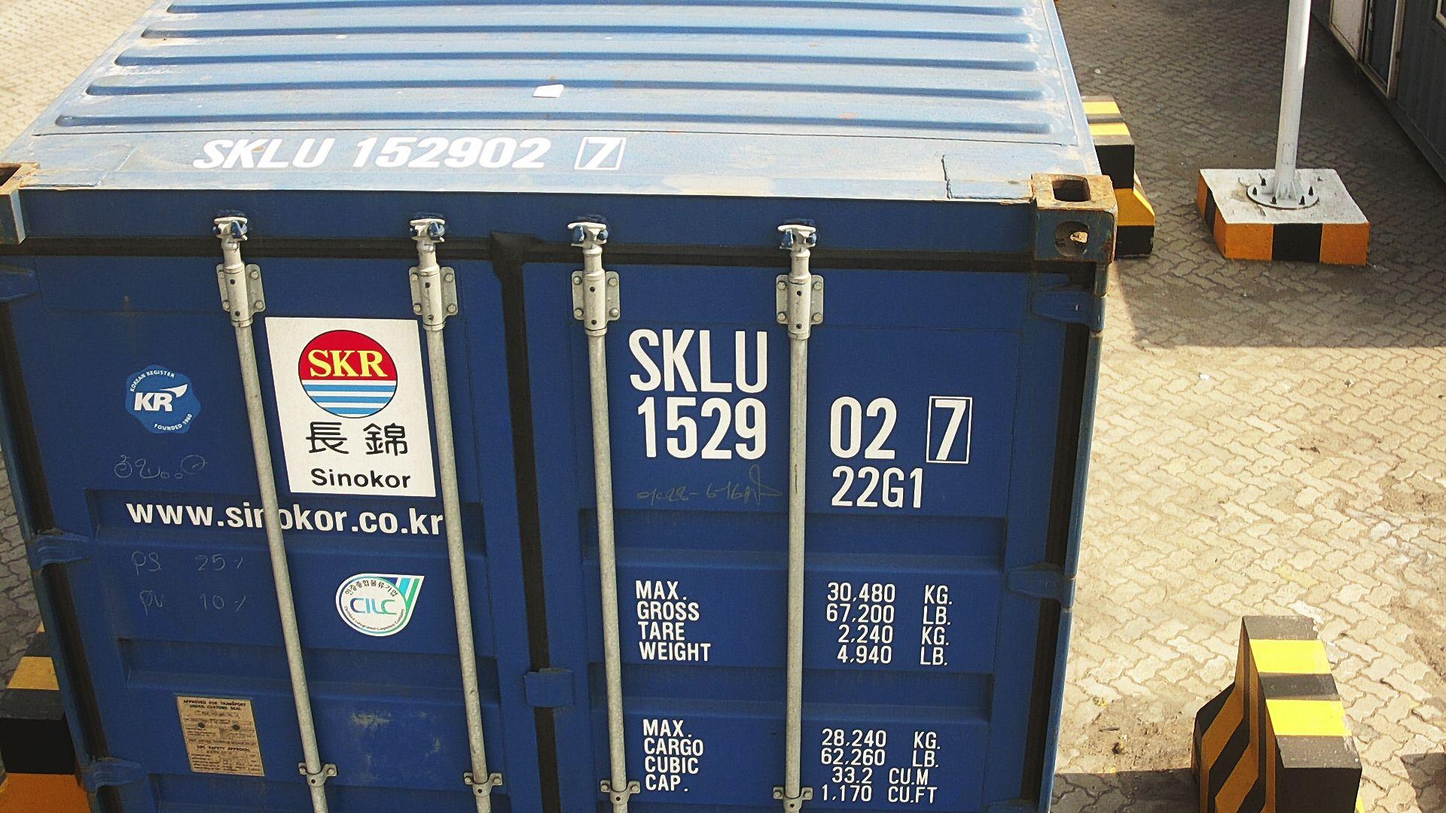container-numbers: (639, 390, 980, 467), (185, 129, 638, 172), (624, 324, 775, 396), (828, 465, 929, 512)
